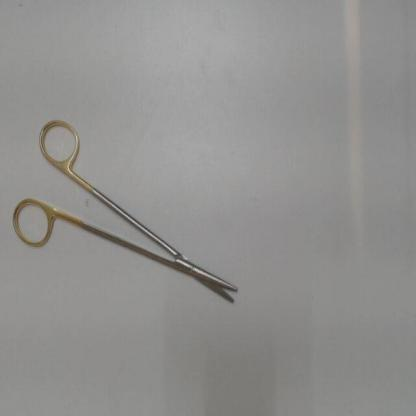7 Metzenbaum Scissors: (8, 112, 244, 313)
